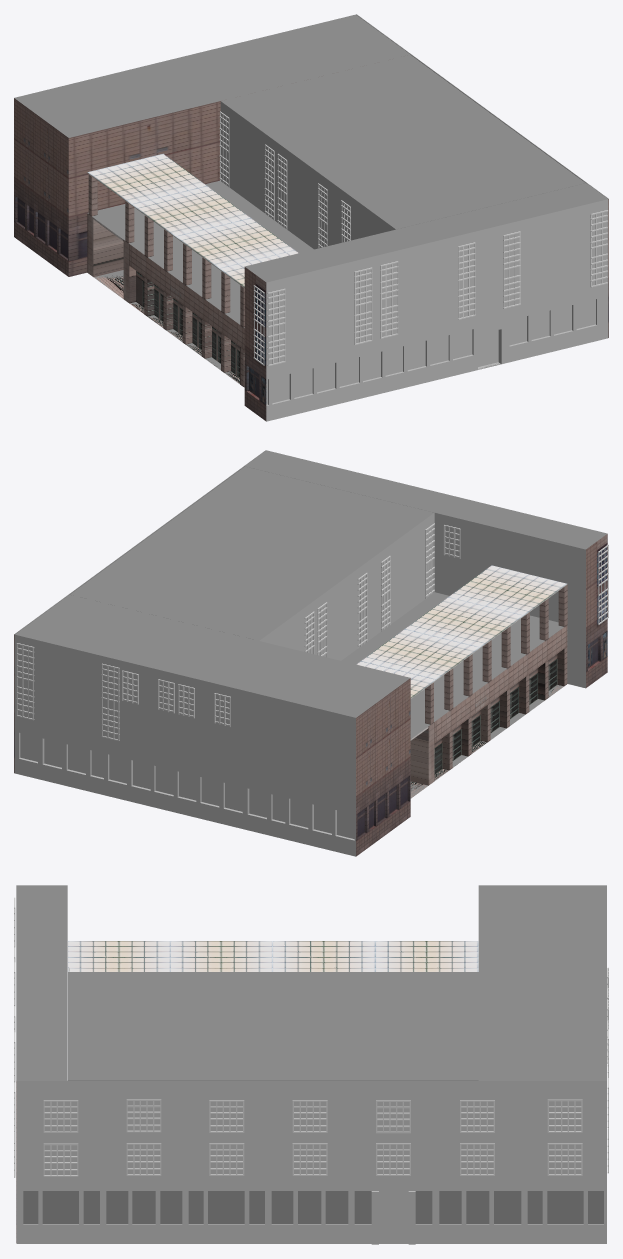
File: DesignNorth.FBX
3 renders of one model, top to bottom at view 1: azimuth 30°, elevation 25°; view 2: azimuth 150°, elevation 25°; view 3: azimuth 270°, elevation 25°, orthographic. The views are drawn at different scales.
Visible parts, largest first — view 1: Box002, Box003, Box004, Box006, Box016, Box017, Box018, Box022, Box026, Box021, Box023, Box024 (+7 smaller); view 2: Box004, Box003, Box002, Box006, Box017, Box019, Box018, Box034, Box033, Box020, Box016, Box029 (+2 smaller); view 3: Box005, Box003, Box004, Box002, Box016, Box018, Box017, Box019, Box059, Box056, Box054, Box046 (+10 smaller).
Boxes of the visible parts, left/top/right/bottom form: Box002: left=244, top=183, right=608, bottom=421; Box003: left=220, top=54, right=585, bottom=249; Box004: left=14, top=14, right=409, bottom=276; Box006: left=87, top=180, right=313, bottom=387; Box016: left=87, top=153, right=206, bottom=204; Box017: left=131, top=186, right=250, bottom=236; Box018: left=175, top=218, right=294, bottom=268; Box022: left=354, top=267, right=372, bottom=344; Box026: left=590, top=210, right=608, bottom=287; Box021: left=267, top=288, right=285, bottom=366; Box023: left=380, top=261, right=398, bottom=338; Box024: left=458, top=242, right=475, bottom=319; Box004: left=15, top=594, right=410, bottom=856; Box003: left=70, top=466, right=434, bottom=660; Box002: left=245, top=450, right=607, bottom=688; Box006: left=341, top=592, right=567, bottom=798; Box017: left=361, top=629, right=479, bottom=679; Box019: left=448, top=565, right=567, bottom=615; Box018: left=404, top=597, right=523, bottom=648; Box034: left=16, top=643, right=34, bottom=720; Box033: left=101, top=663, right=119, bottom=740; Box020: left=598, top=544, right=608, bottom=624; Box016: left=356, top=661, right=436, bottom=698; Box029: left=357, top=573, right=367, bottom=648; Box005: left=16, top=1080, right=606, bottom=1244; Box003: left=68, top=972, right=478, bottom=1080; Box004: left=478, top=885, right=606, bottom=1080; Box002: left=16, top=885, right=67, bottom=1242; Box016: left=375, top=941, right=478, bottom=971; Box018: left=170, top=941, right=272, bottom=971; Box017: left=273, top=941, right=375, bottom=971; Box019: left=68, top=941, right=170, bottom=971; Box059: left=126, top=1099, right=161, bottom=1132; Box056: left=376, top=1100, right=410, bottom=1133; Box054: left=547, top=1099, right=582, bottom=1132; Box046: left=43, top=1143, right=78, bottom=1176.
Size of the model in its own units: 91.09 by 35 by 116.
